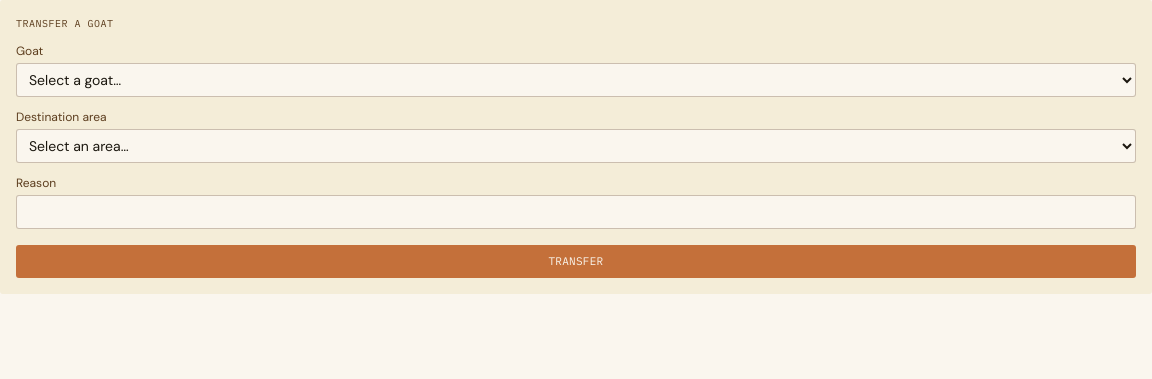
Test case: TransferForm › shows a risk warning when the transfer returns a non-NONE risk
The image size is (1152, 379).
Select "G-1 — Daisy" in the dropdown labelled "Goat" at (576, 80), box x1=16 y1=63 x2=1136 y2=97
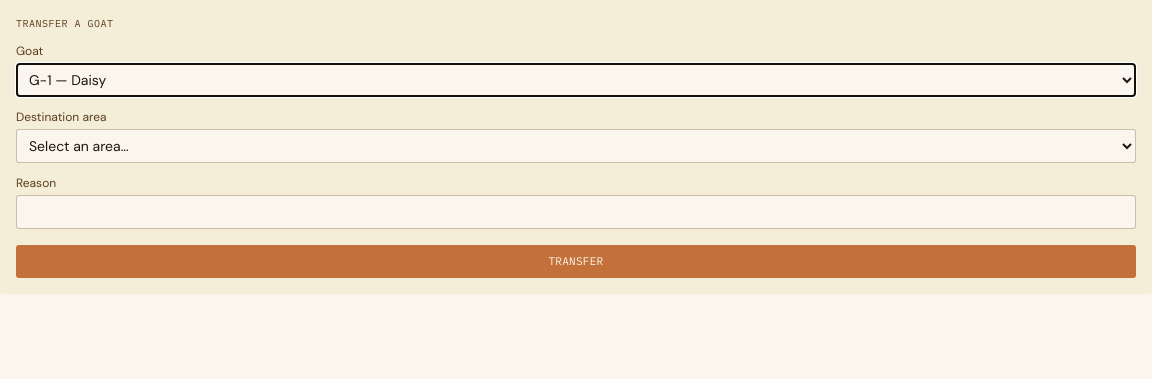
Select "Pen A" in the dropdown labelled "Destination area" at (576, 146), box x1=16 y1=129 x2=1136 y2=163
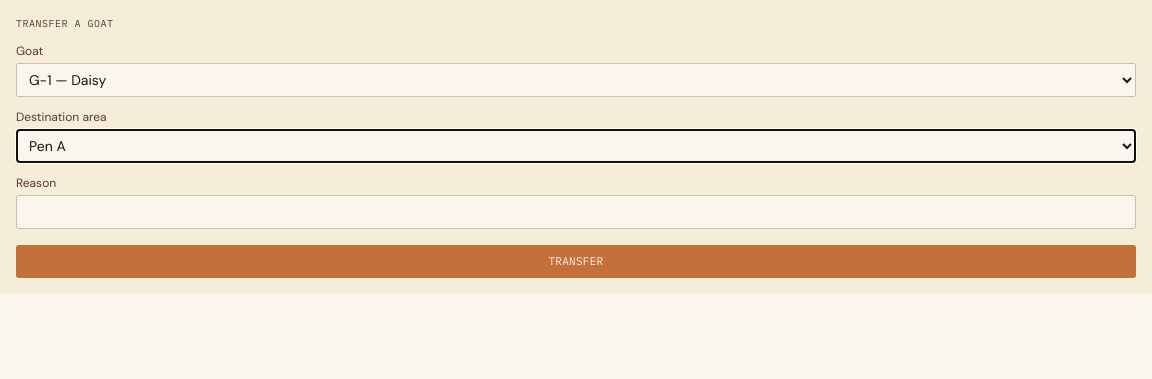
Click the button "Transfer" at (576, 261), box x1=16 y1=245 x2=1136 y2=278
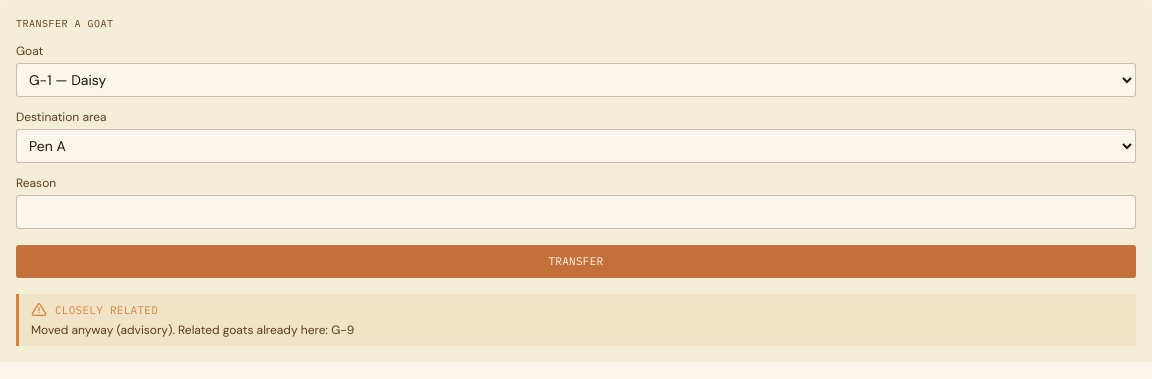
Result: the text "Closely related" is shown at x1=31 y1=302 x2=158 y2=318
